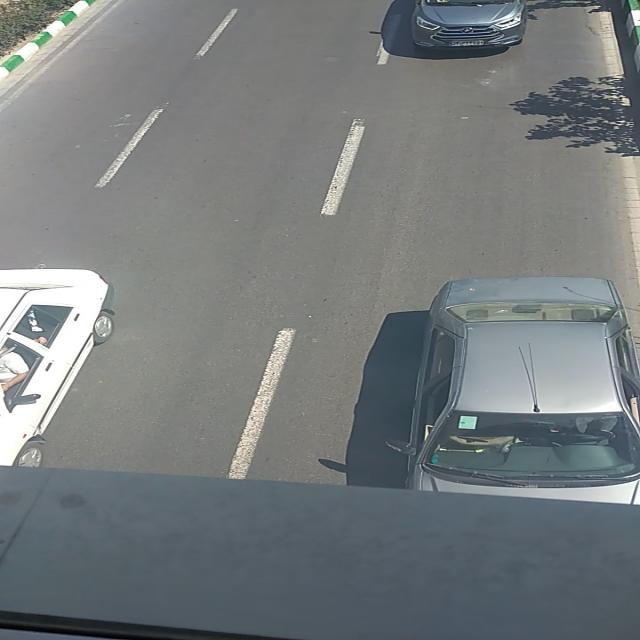car: (385, 276, 637, 502), (0, 270, 112, 467), (411, 0, 529, 50)
